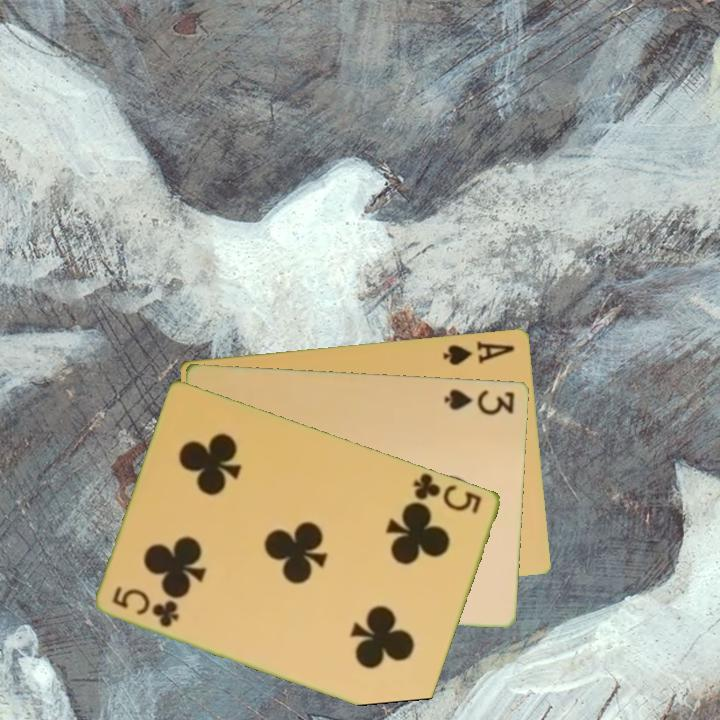3s: (441, 385, 518, 418)
5c: (109, 582, 183, 630), (410, 469, 485, 516)
As: (439, 337, 518, 368)
